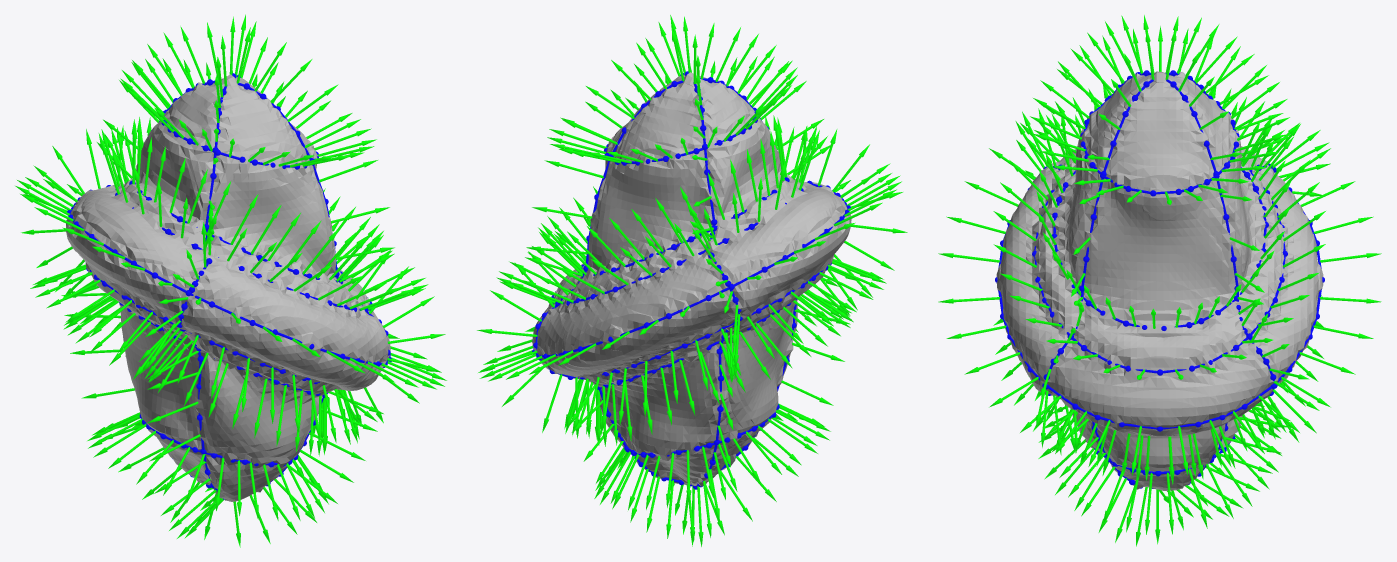
File: flowrep_ellipsetorus.gltf
3 renders of one model, left to right at view 1: azimuth 30°, elevation 25°; view 2: azimuth 150°, elevation 25°; view 3: azimuth 270°, elevation 25°, orthographic.
Bounding box in the file's own units: 0.6573 × 0.8995 × 0.6986.
